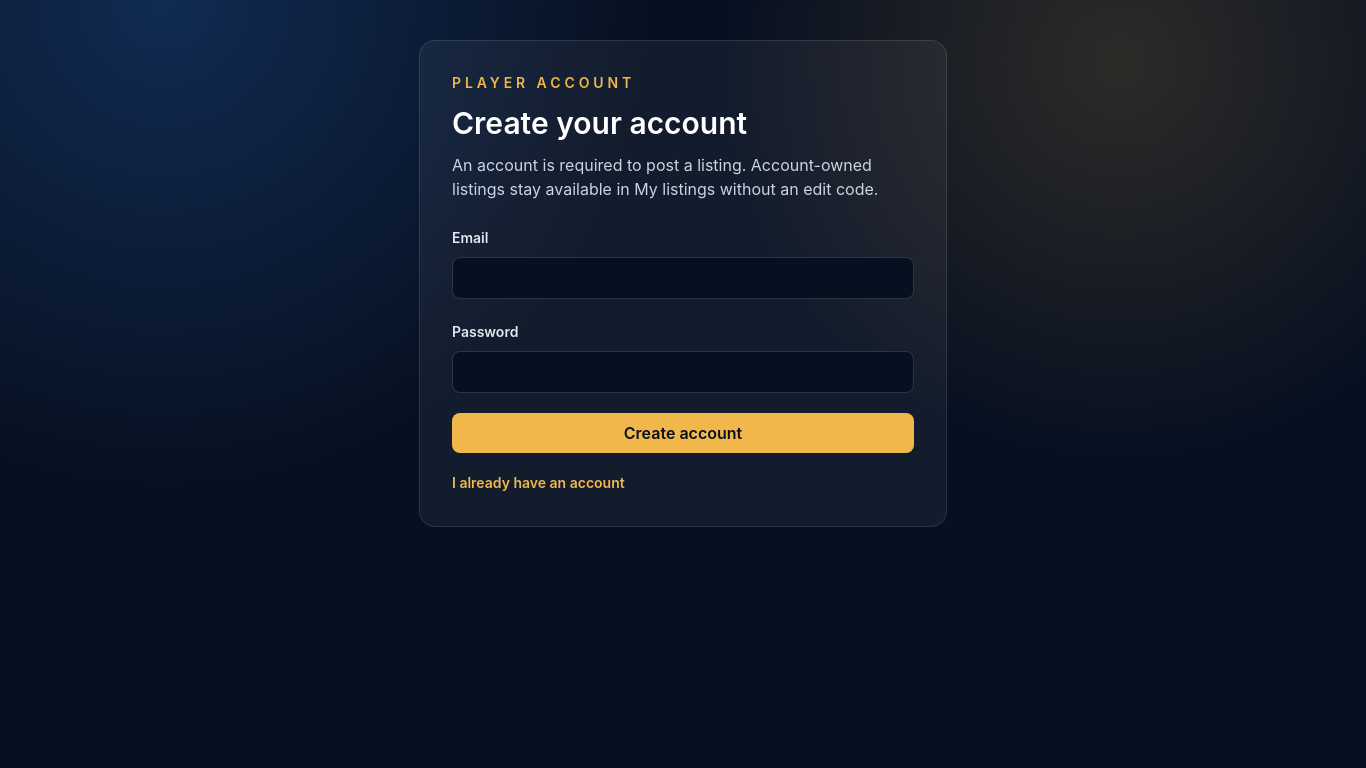
account page › registers and explains email confirmation when needed
Step 1. Type "new@example.com" into the field labelled "Email" → x=683, y=278, box [452,257,914,299]
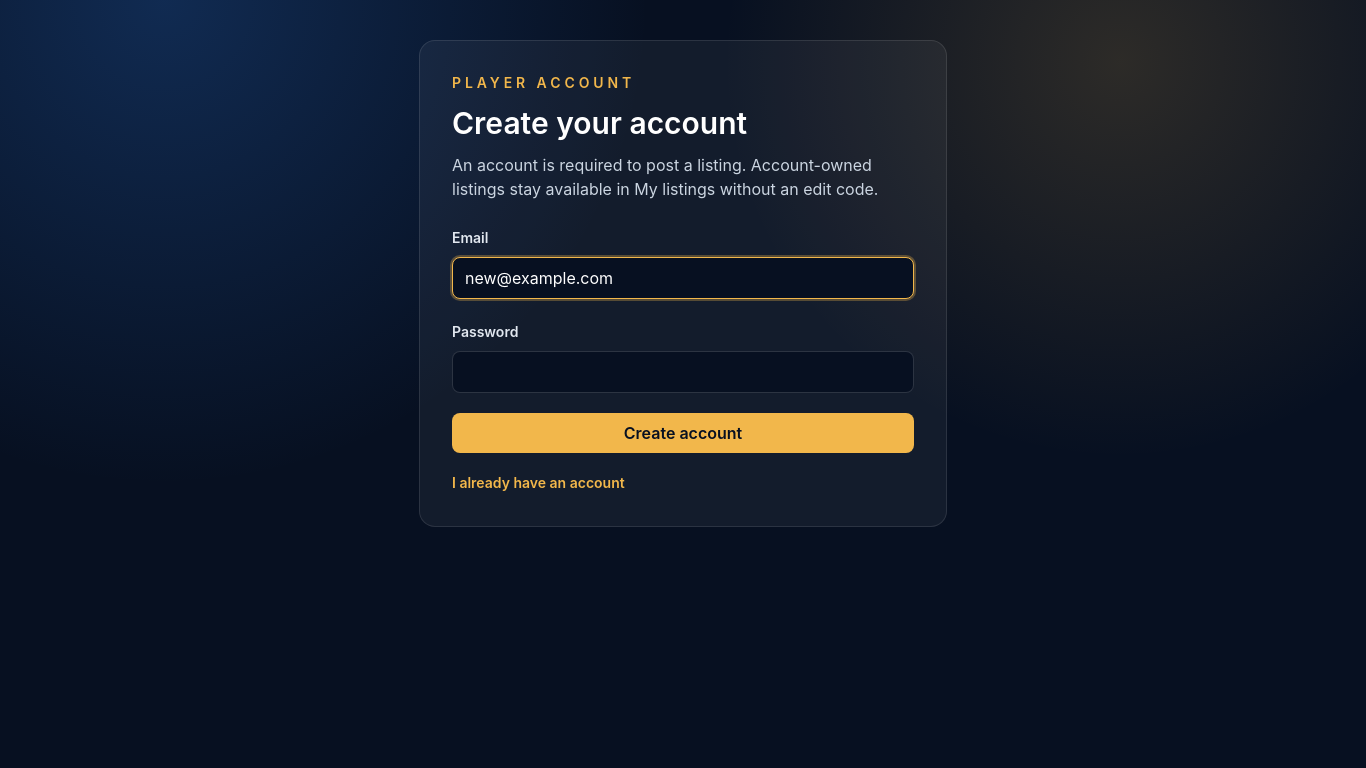
Step 2. Type "secret6" into the password field labelled "Password" → x=683, y=372, box [452,351,914,393]
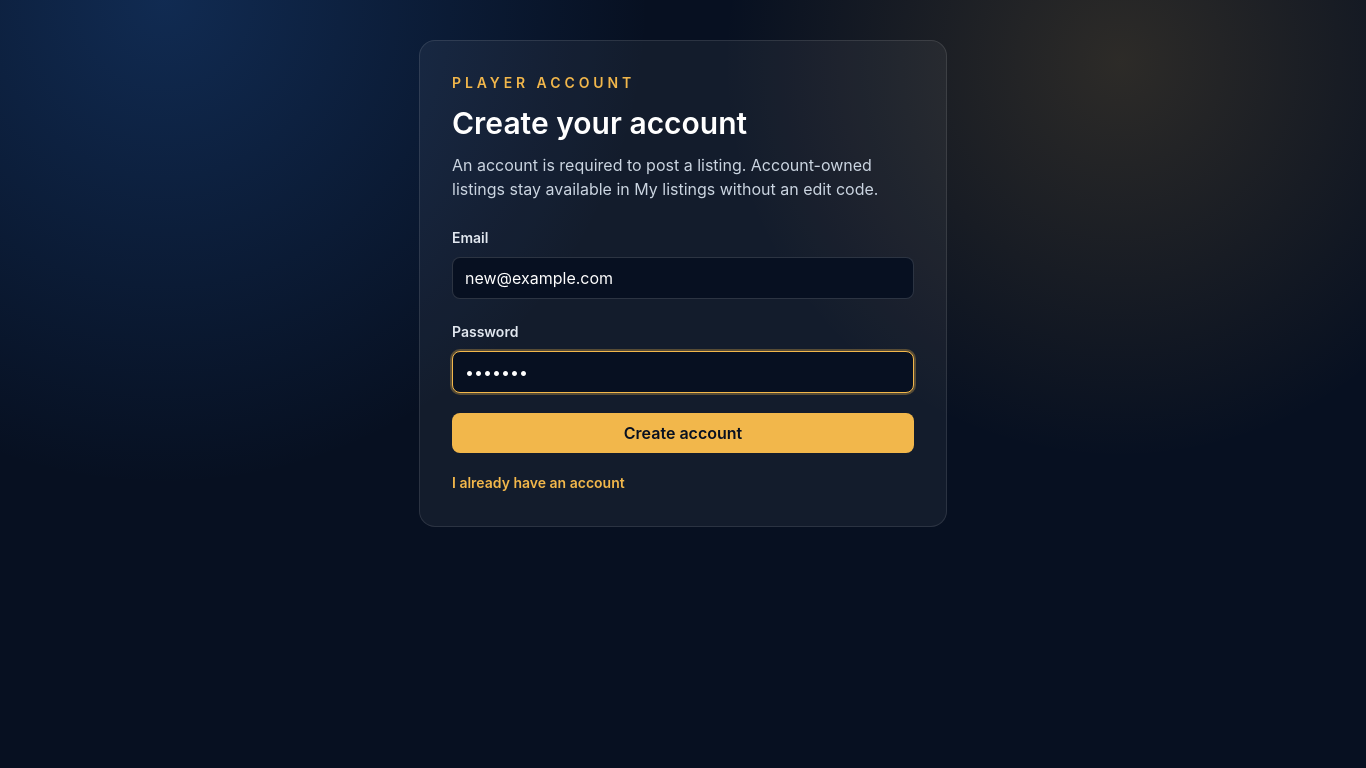
Step 3. Click the button "Create account" → x=683, y=433, box [452,413,914,453]
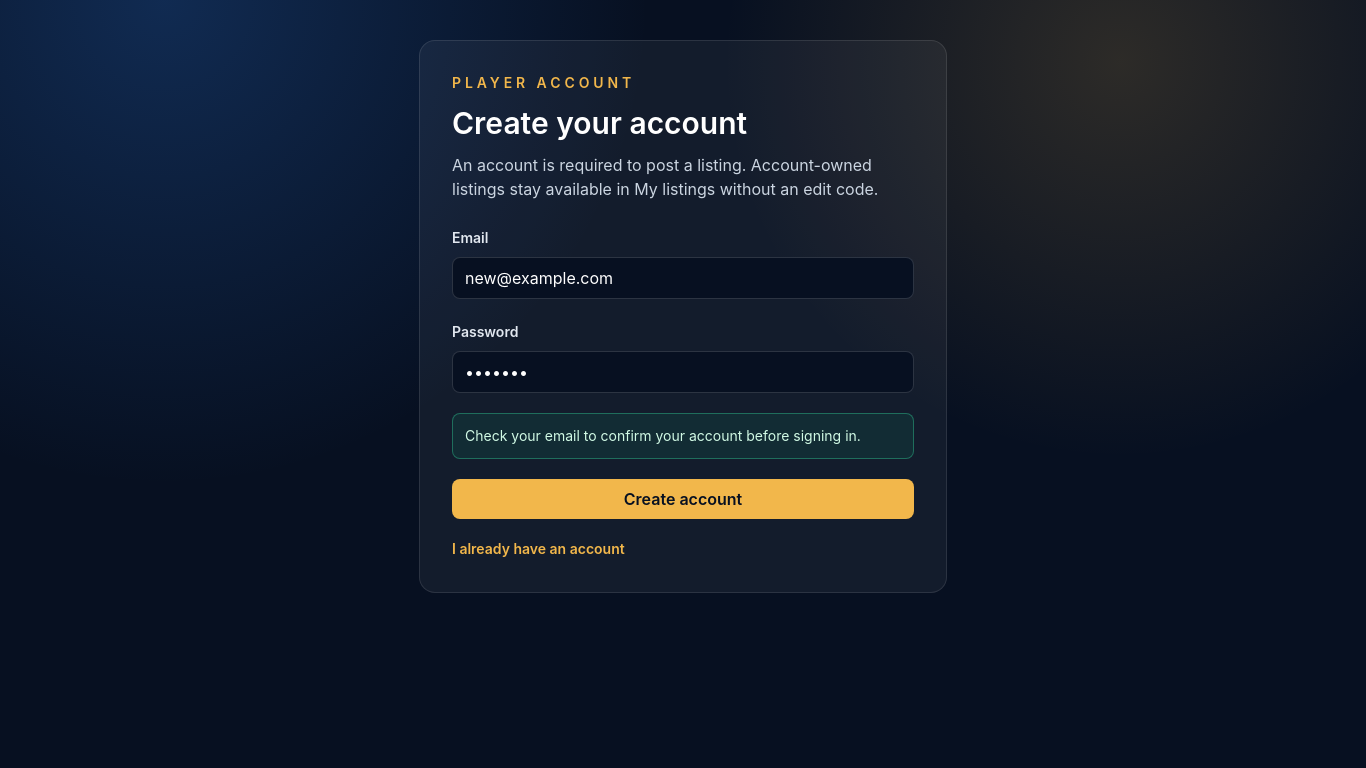
Now the text "Check your email to confirm your account before signing in." is shown, box [452,413,914,459]
